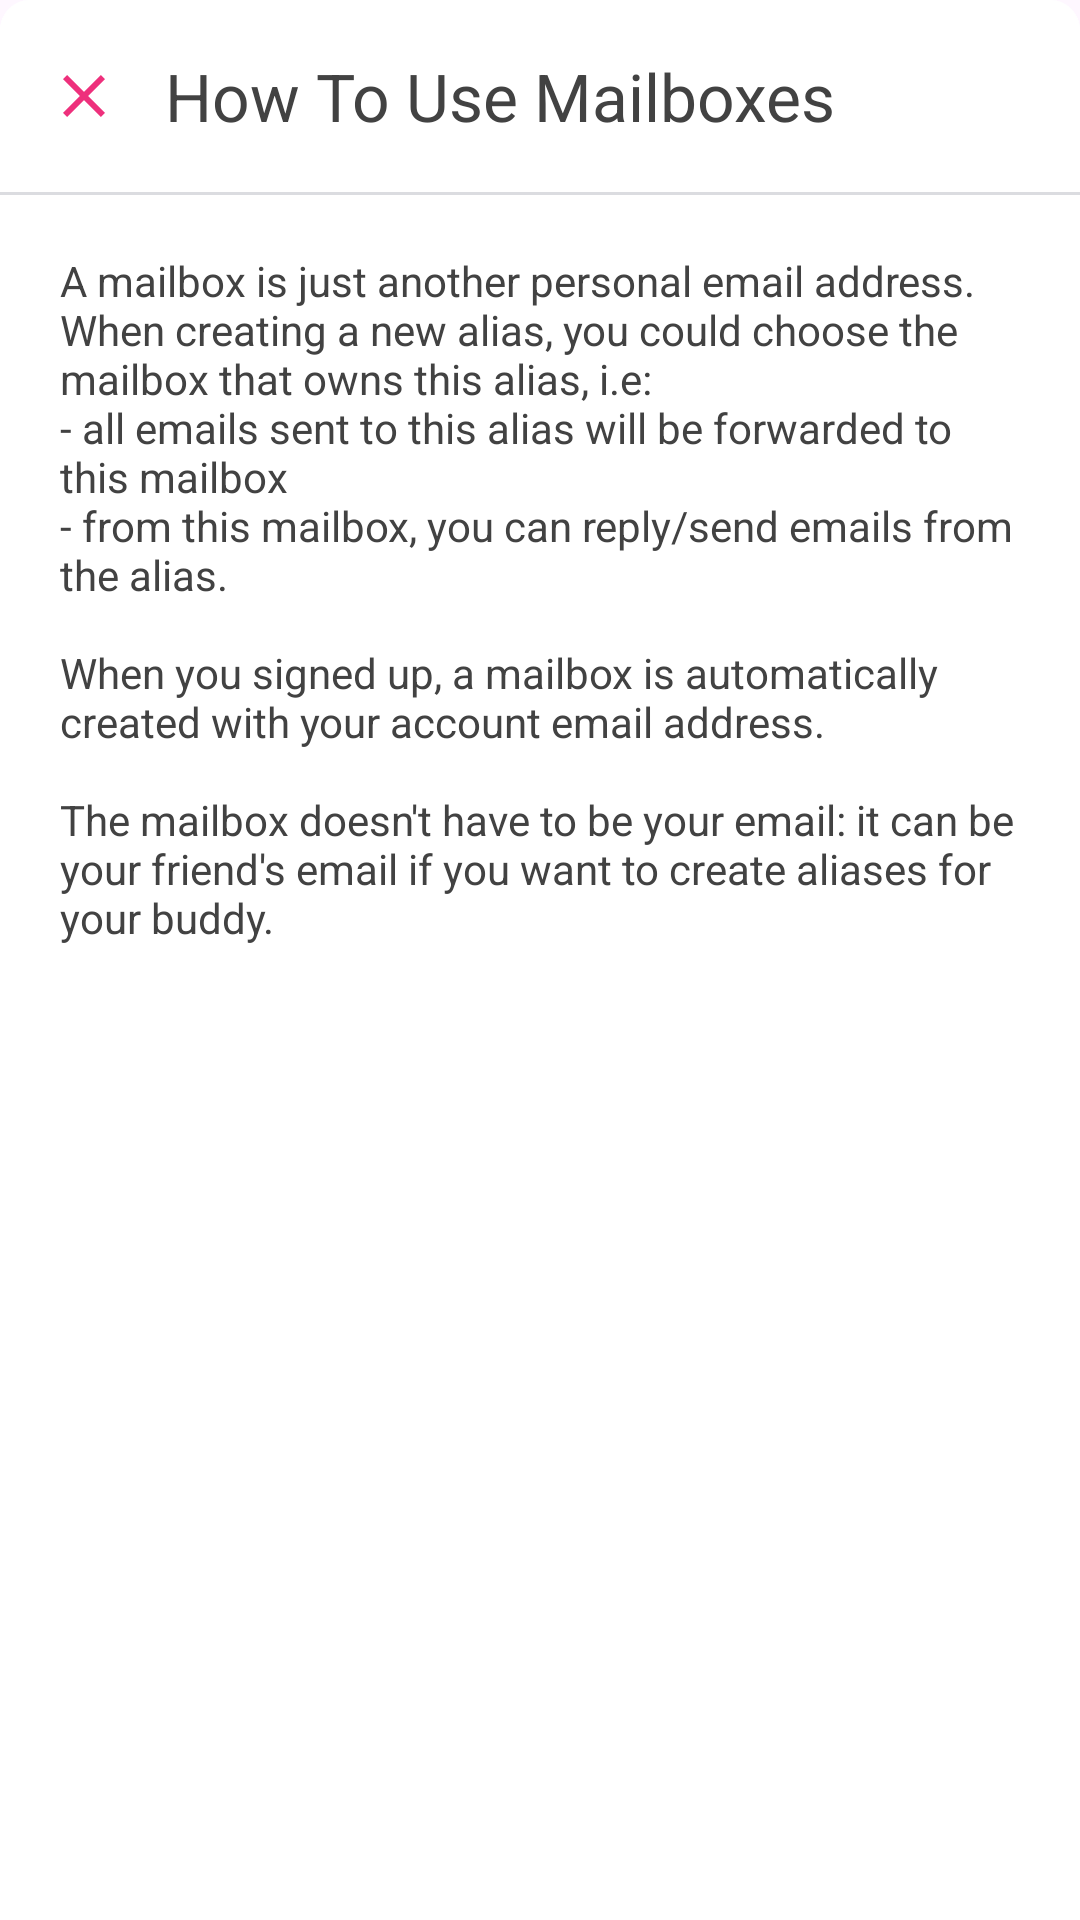

Locate icon controls on the screen. Image size 1080 × 1920, boxes as (x1, y1, x2, y2).
close: (63, 75, 105, 117)
